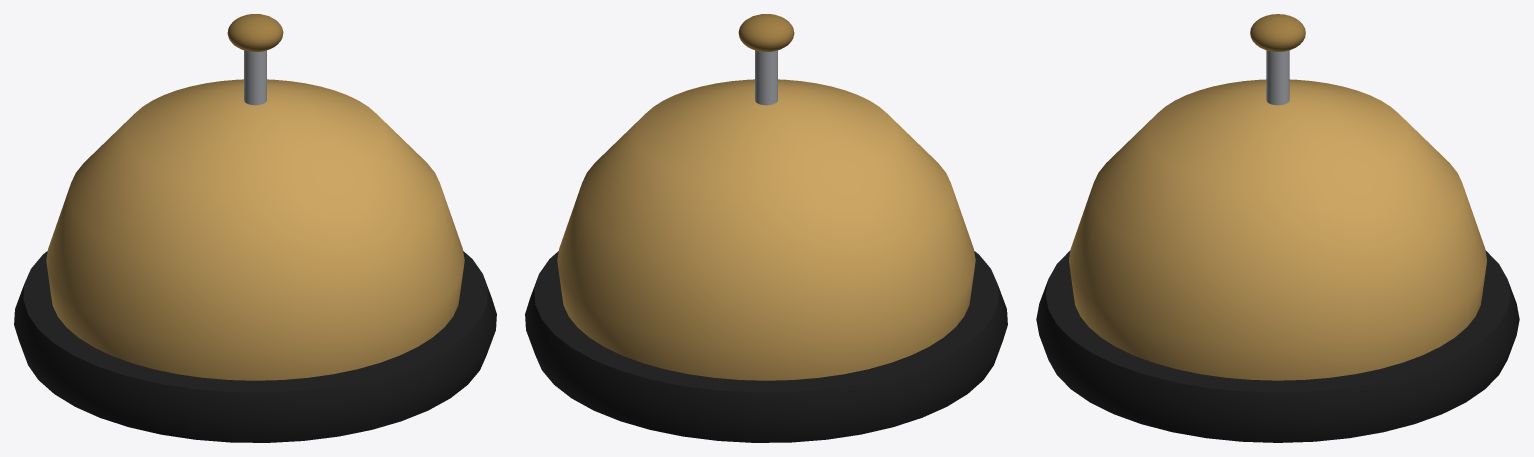
File: Bell.fbx
3 renders of one model, left to right at view 1: azimuth 30°, elevation 25°; view 2: azimuth 150°, elevation 25°; view 3: azimuth 270°, elevation 25°, orthographic.
Parts seen in each view (by area): view 1: Bell, BellPlunger; view 2: Bell, BellPlunger; view 3: Bell, BellPlunger.
Boxes of the visible parts, <box> form: Bell: <box>14,79,496,442</box>; BellPlunger: <box>227,14,283,105</box>; Bell: <box>525,79,1007,442</box>; BellPlunger: <box>738,14,794,105</box>; Bell: <box>1036,79,1519,442</box>; BellPlunger: <box>1250,14,1305,105</box>.
Bounding box in the file's own units: 0.104 × 0.0776 × 0.104.
